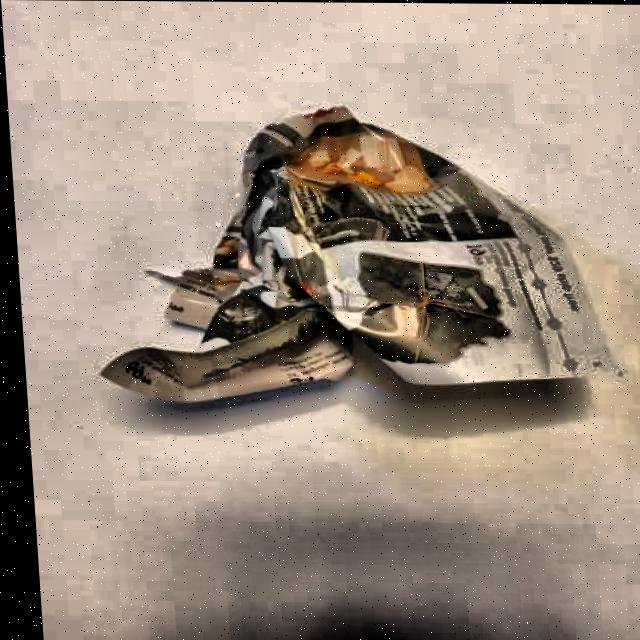paper: (77, 103, 633, 406)
